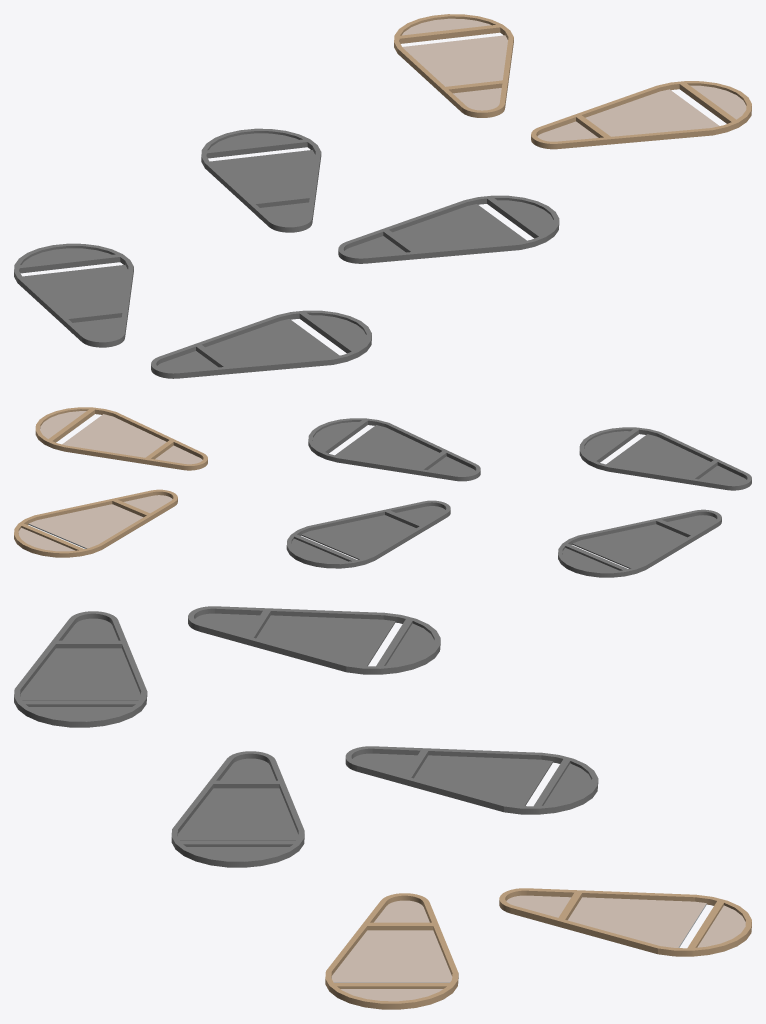
File: SnowShoe.gltf
3 views of the same model, one above another, from view 1: azimuth 30°, elevation 25°; view 2: azimuth 150°, elevation 25°; view 3: azimuth 270°, elevation 25° (orthographic). The views are drawn at different scales.
Parts seen in each view (by area): view 1: Mesh6 Group2 SnowShoes1 Model, Mesh11 Group3 SnowShoes1 Model, Mesh26 Group6 Component1 SnowShoes1 Model, Mesh1 Group1 SnowShoes1 Model, Mesh16 Group4 SnowShoes1 Model, Mesh21 Group5 Component1 SnowShoes1 Model; view 2: Mesh1 Group1 SnowShoes1 Model, Mesh21 Group5 Component1 SnowShoes1 Model, Mesh16 Group4 SnowShoes1 Model, Mesh11 Group3 SnowShoes1 Model, Mesh26 Group6 Component1 SnowShoes1 Model, Mesh6 Group2 SnowShoes1 Model; view 3: Mesh1 Group1 SnowShoes1 Model, Mesh16 Group4 SnowShoes1 Model, Mesh21 Group5 Component1 SnowShoes1 Model, Mesh26 Group6 Component1 SnowShoes1 Model, Mesh6 Group2 SnowShoes1 Model, Mesh11 Group3 SnowShoes1 Model.
Boxes of the visible parts, x1,y1,x2,y2 form: Mesh6 Group2 SnowShoes1 Model: (338,195,559,263); Mesh11 Group3 SnowShoes1 Model: (151,310,371,378); Mesh26 Group6 Component1 SnowShoes1 Model: (531,81,751,149); Mesh1 Group1 SnowShoes1 Model: (201,128,321,232); Mesh16 Group4 SnowShoes1 Model: (14,243,133,347); Mesh21 Group5 Component1 SnowShoes1 Model: (394,14,513,117); Mesh1 Group1 SnowShoes1 Model: (286,500,450,568); Mesh21 Group5 Component1 SnowShoes1 Model: (14,489,177,557); Mesh16 Group4 SnowShoes1 Model: (558,509,721,577); Mesh11 Group3 SnowShoes1 Model: (579,427,751,490); Mesh26 Group6 Component1 SnowShoes1 Model: (35,407,207,470); Mesh6 Group2 SnowShoes1 Model: (308,418,480,481); Mesh1 Group1 SnowShoes1 Model: (345,746,598,814); Mesh16 Group4 SnowShoes1 Model: (188,606,440,674); Mesh21 Group5 Component1 SnowShoes1 Model: (499,888,751,956); Mesh26 Group6 Component1 SnowShoes1 Model: (325,893,458,1009); Mesh6 Group2 SnowShoes1 Model: (171,751,304,867); Mesh11 Group3 SnowShoes1 Model: (14,611,147,727).
Size of the model in its own units: 146 by 1.75 by 113.
